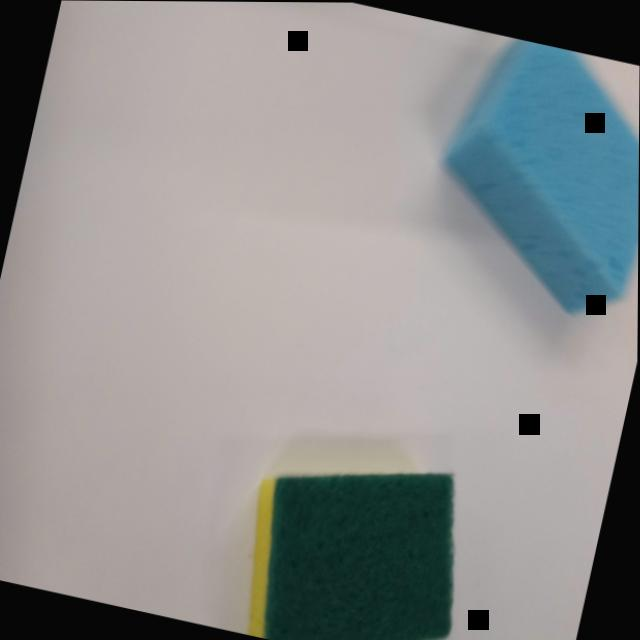scrubby: (219, 420, 490, 640)
